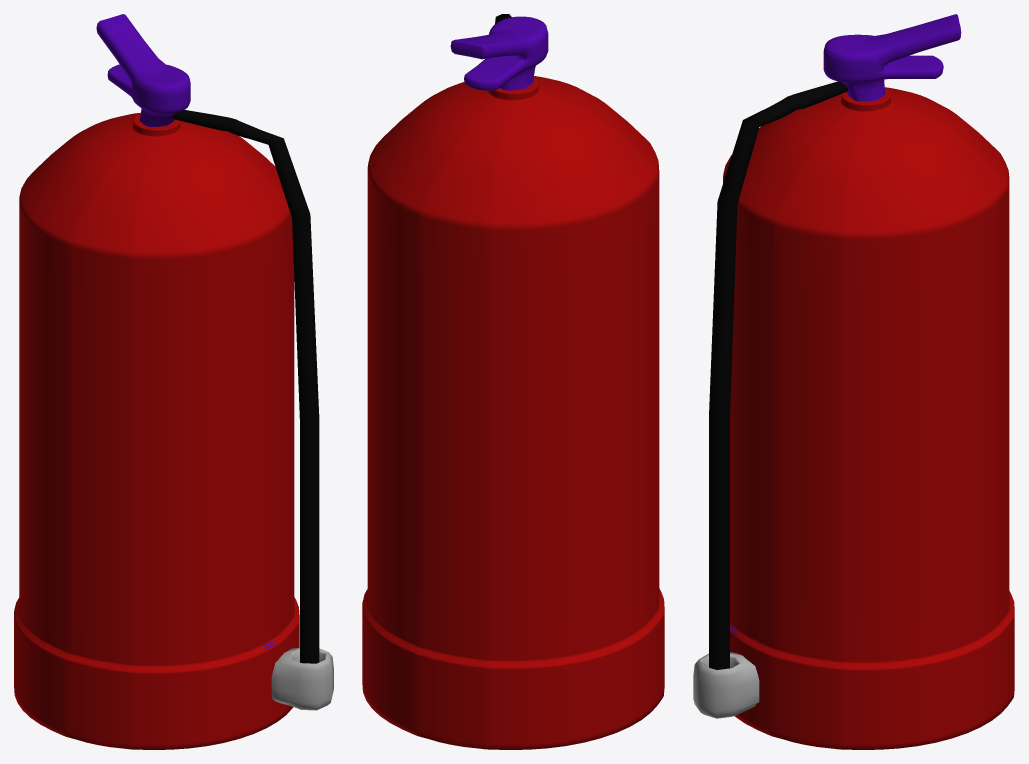
The model's file is Extintor.fbx.
The picture shows the model from 3 angles, left to right: view 1: azimuth 30°, elevation 25°; view 2: azimuth 150°, elevation 25°; view 3: azimuth 270°, elevation 25°; orthographic projection. The views are drawn at different scales.
Visible parts, largest first — view 1: pDisc1, manguera, pTorus1; view 2: pDisc1; view 3: pDisc1, manguera, pTorus1.
Part boxes in pixels (bbox=[...]): pDisc1: bbox=[14, 14, 299, 749]; manguera: bbox=[171, 110, 319, 663]; pTorus1: bbox=[271, 647, 333, 710]; pDisc1: bbox=[362, 16, 664, 749]; pDisc1: bbox=[723, 14, 1014, 749]; manguera: bbox=[709, 81, 848, 669]; pTorus1: bbox=[693, 652, 759, 718].
Size of the model in its own units: 3.66 by 9.08 by 3.96.
